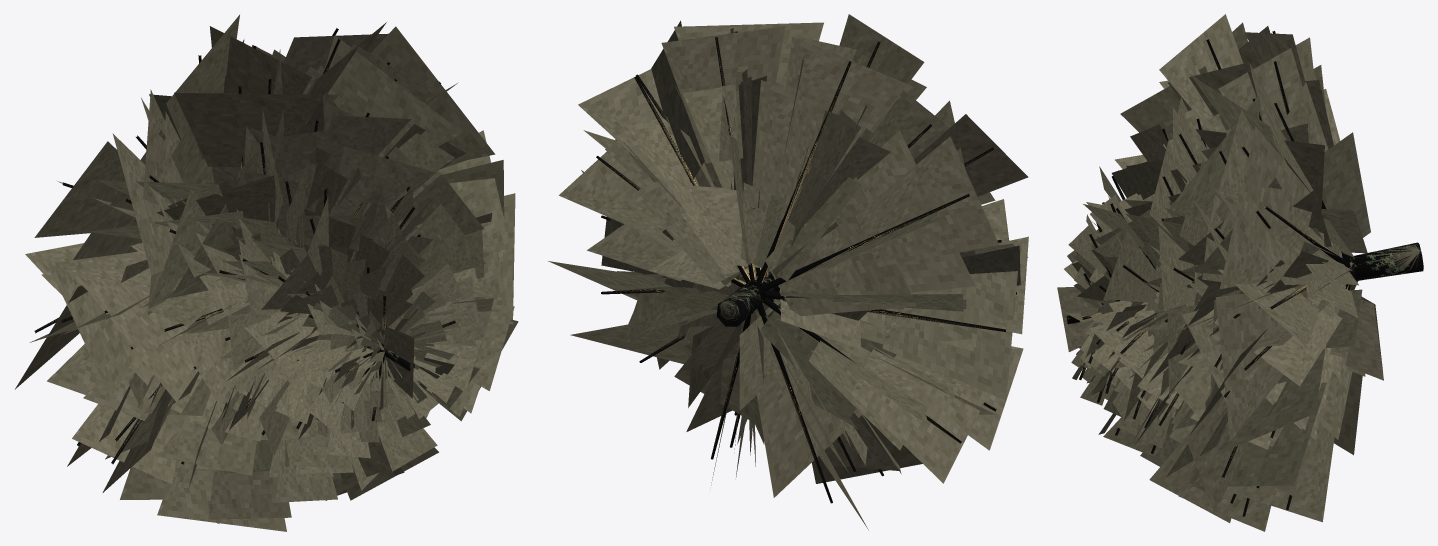
The model's file is PZ_ALP_03_Krummholz_Mountain_Pine_1p6m.glb.
3 views of the same model, side by side, from view 1: azimuth 30°, elevation 25°; view 2: azimuth 150°, elevation 25°; view 3: azimuth 270°, elevation 25° (orthographic). The views are drawn at different scales.
Visible parts, largest first — view 1: NeedleSprigCards_DoubleSided_MASK, StructuralBranches_Conifer; view 2: NeedleSprigCards_DoubleSided_MASK, StructuralBranches_Conifer, TreeTrunk_Bark; view 3: NeedleSprigCards_DoubleSided_MASK, StructuralBranches_Conifer, TreeTrunk_Bark.
Part boxes in pixels (x1,y1,x2,y2): NeedleSprigCards_DoubleSided_MASK: [15, 14, 518, 531]; StructuralBranches_Conifer: [34, 28, 455, 523]; NeedleSprigCards_DoubleSided_MASK: [548, 14, 1028, 529]; StructuralBranches_Conifer: [596, 31, 1016, 503]; TreeTrunk_Bark: [716, 271, 775, 326]; NeedleSprigCards_DoubleSided_MASK: [1057, 14, 1383, 531]; StructuralBranches_Conifer: [1079, 31, 1351, 516]; TreeTrunk_Bark: [1066, 242, 1423, 324].
Size of the model in its own units: 2.3 by 2.3 by 1.64.
2 materials, 2 textured.
